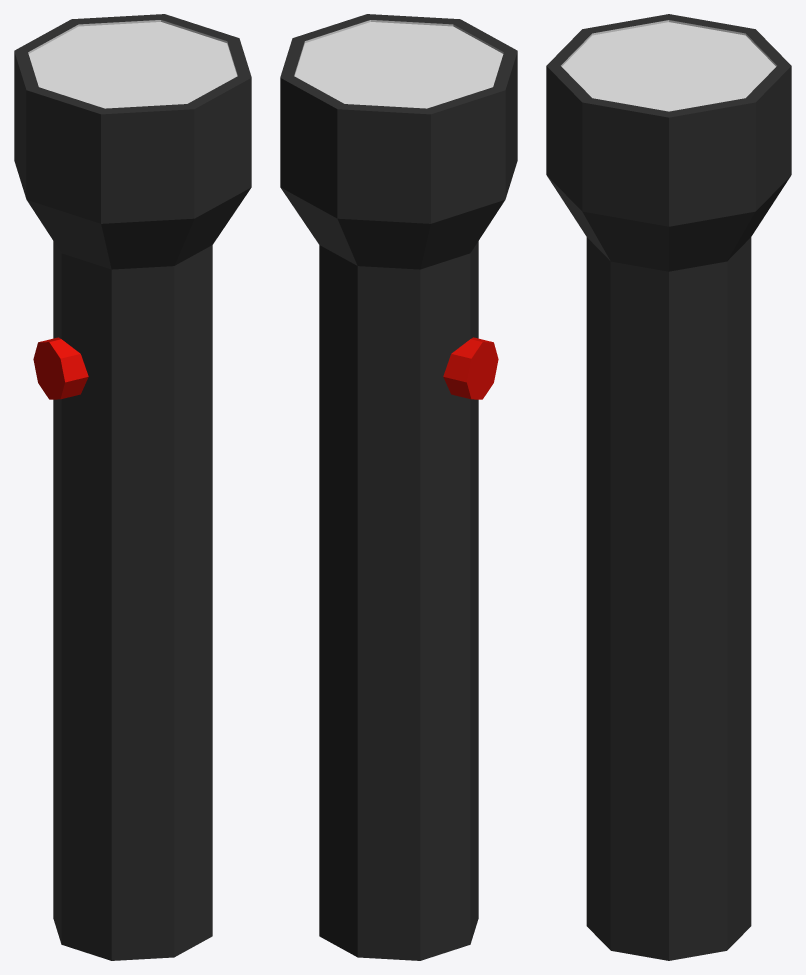
File: Torch.fbx
The picture shows the model from 3 angles, left to right: view 1: azimuth 30°, elevation 25°; view 2: azimuth 150°, elevation 25°; view 3: azimuth 270°, elevation 25°; orthographic projection.
Visible parts, largest first — view 1: Body, Glass, Button; view 2: Body, Glass, Button; view 3: Body, Glass.
Part boxes in pixels (x1,y1,x2,y2): Body: (14,14,251,960); Glass: (28,22,237,108); Button: (33,337,88,399); Body: (280,14,517,960); Glass: (294,22,503,108); Button: (443,337,498,399); Body: (546,14,791,960); Glass: (562,22,775,111).
Bounding box in the file's own units: 3.87 × 15 × 3.87.
